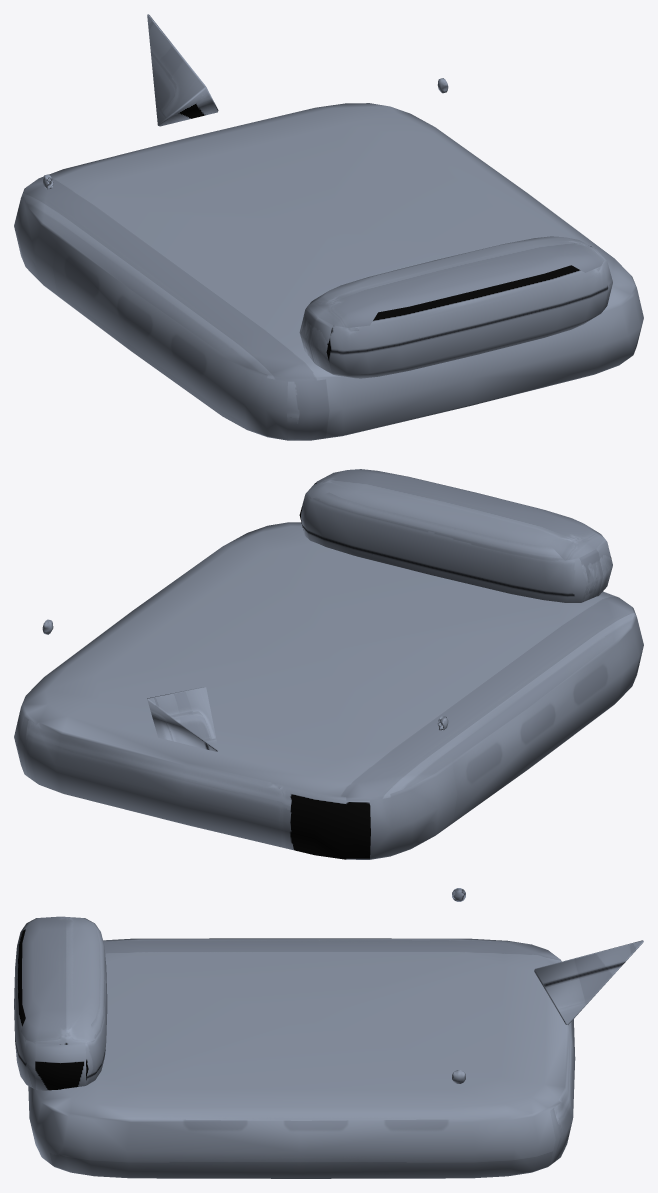
Rendered from Estela_BotaIzq_Acero.fbx.
3 views of the same model, one above another, from view 1: azimuth 30°, elevation 25°; view 2: azimuth 150°, elevation 25°; view 3: azimuth 270°, elevation 25° (orthographic). The views are drawn at different scales.
Visible parts, largest first — view 1: Estela_BotaIzq_Acero; view 2: Estela_BotaIzq_Acero; view 3: Estela_BotaIzq_Acero.
Part boxes in pixels (x1=…): Estela_BotaIzq_Acero: x1=14, y1=14, x2=643, y2=440; Estela_BotaIzq_Acero: x1=14, y1=469, x2=643, y2=859; Estela_BotaIzq_Acero: x1=14, y1=888, x2=643, y2=1178.
Size of the model in its own units: 1.19 by 0.4625 by 1.68.
